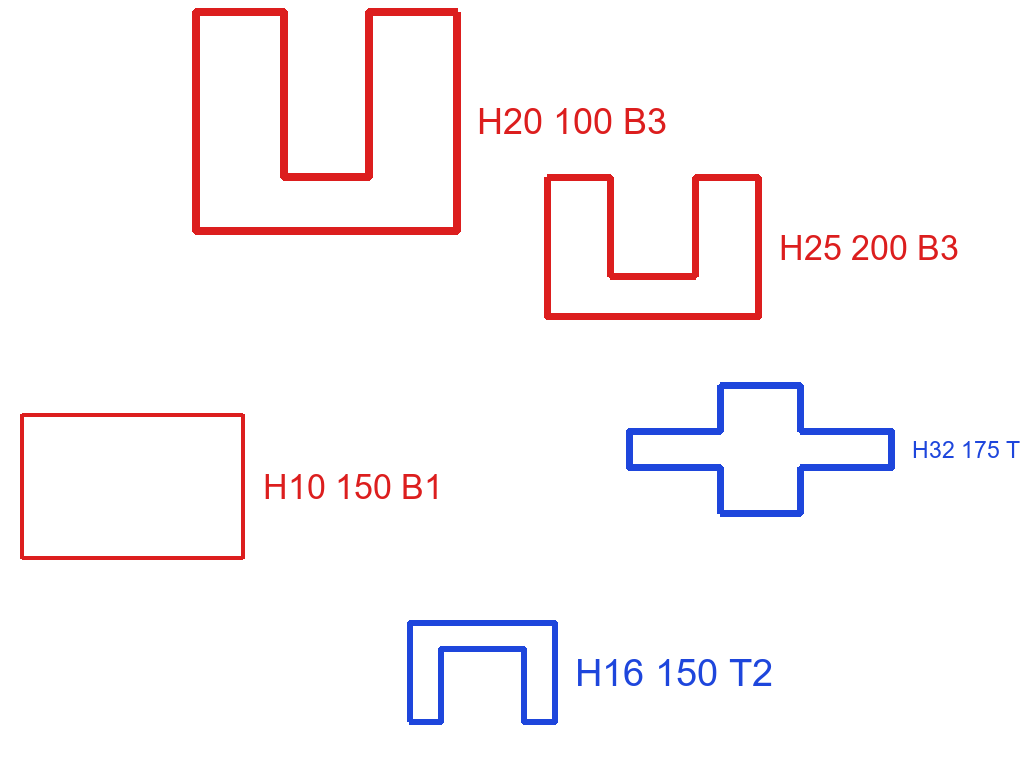shape: (190, 6, 463, 237), (624, 380, 897, 519), (18, 411, 247, 563), (542, 172, 764, 322), (405, 618, 560, 727)
text: (573, 657, 775, 688), (475, 106, 669, 136), (777, 233, 961, 262), (261, 472, 445, 501), (910, 439, 1022, 460)
